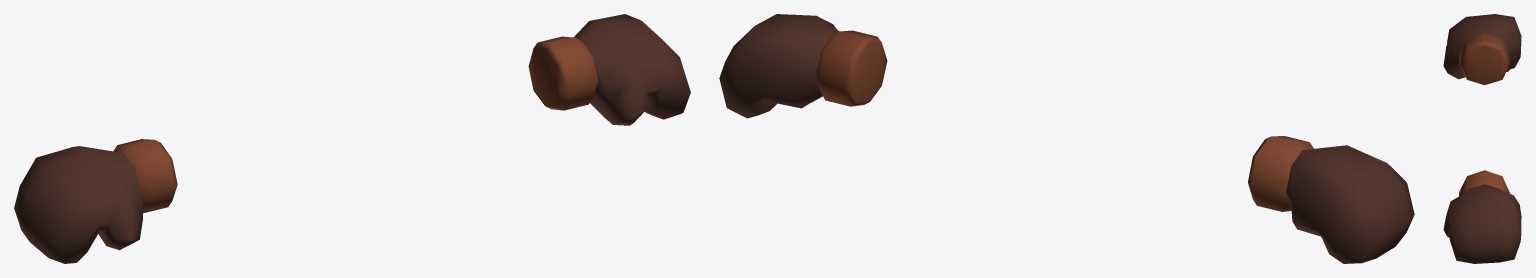
File: Glove_20.fbx
3 views of the same model, side by side, from view 1: azimuth 30°, elevation 25°; view 2: azimuth 150°, elevation 25°; view 3: azimuth 270°, elevation 25° (orthographic). The views are drawn at different scales.
Visible parts, largest first — view 1: Glove_20; view 2: Glove_20; view 3: Glove_20.
Part boxes in pixels (x1,y1,x2,y2): Glove_20: [14, 14, 690, 263]; Glove_20: [719, 14, 1414, 263]; Glove_20: [1443, 14, 1521, 263].
Size of the model in its own units: 135 by 18.34 by 21.27.
